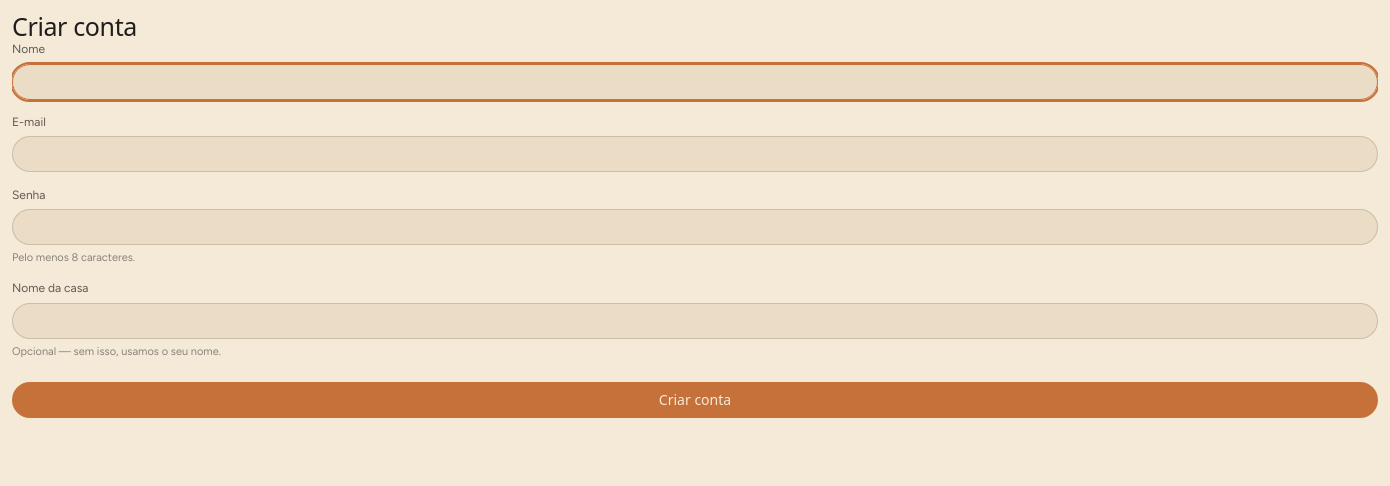
Test: cadastro › mostra o conflito de e-mail já cadastrado
Type "Ana" into the field labelled "Nome" at (695, 82), box [12,64,1378,100]
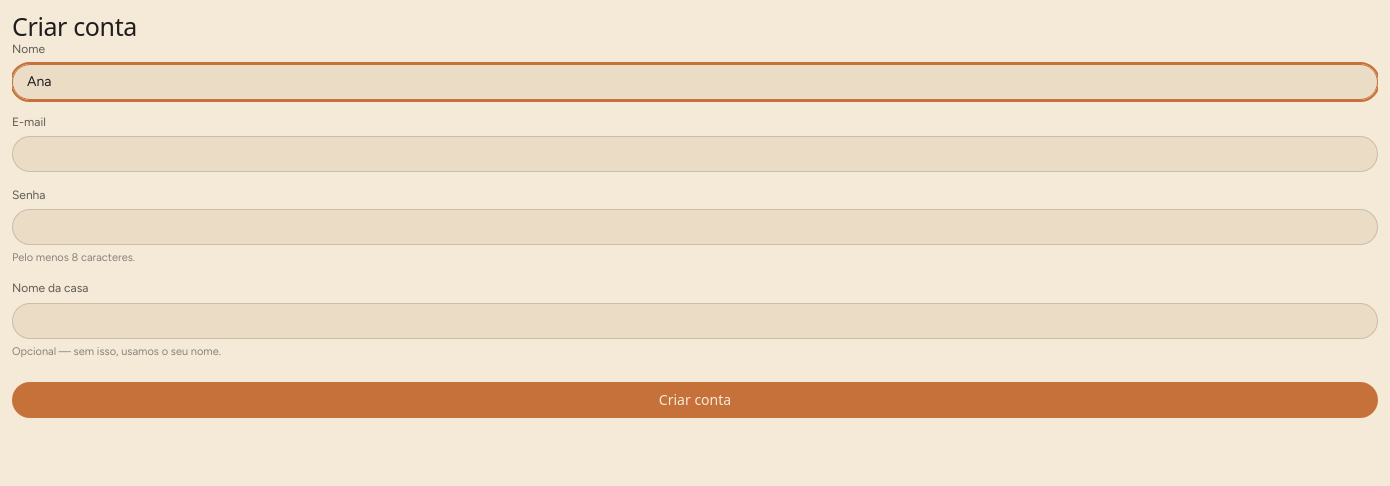
Type "ana@raiz.app" into the field labelled "E-mail" at (695, 154), box [12,136,1378,172]
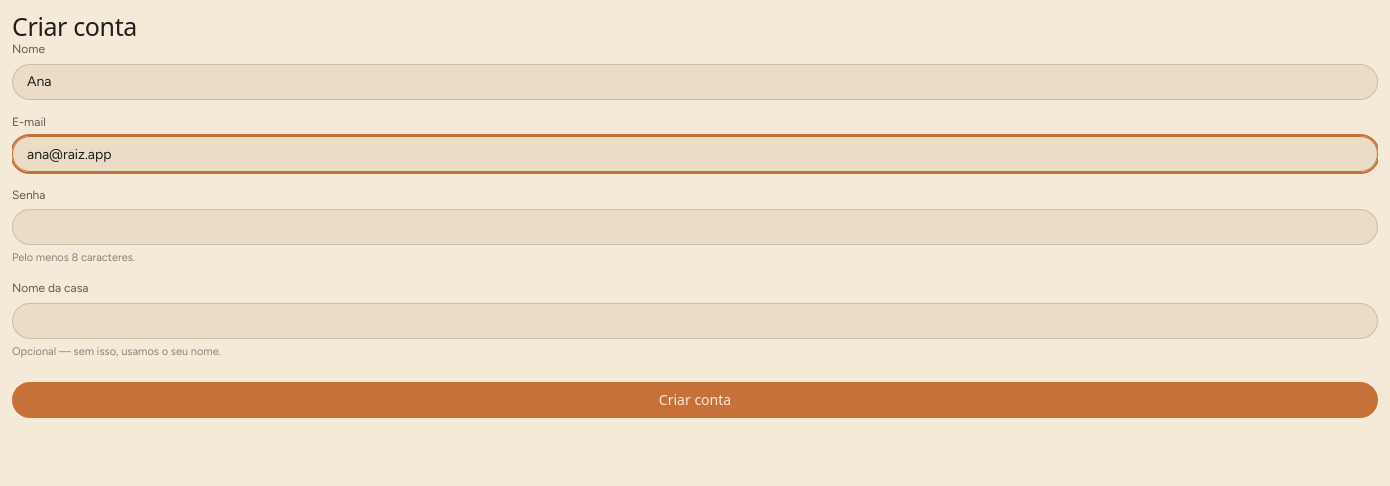
Type "raiz1234" into the password field labelled "Senha" at (695, 227), box [12,209,1378,245]
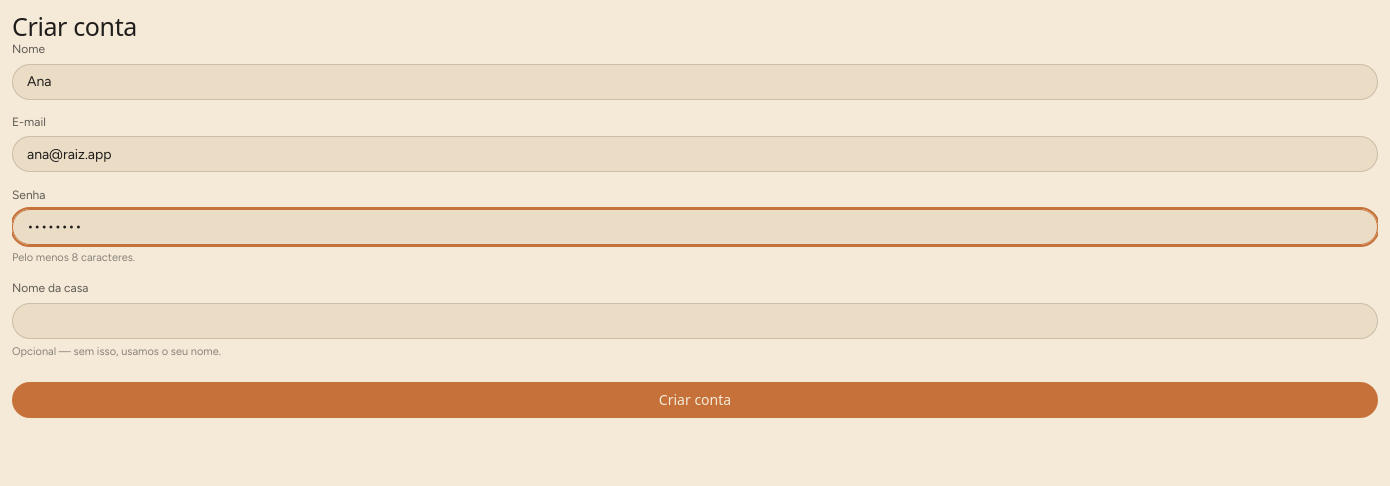
Click the button "Criar conta" at (695, 400), box [12,382,1378,418]
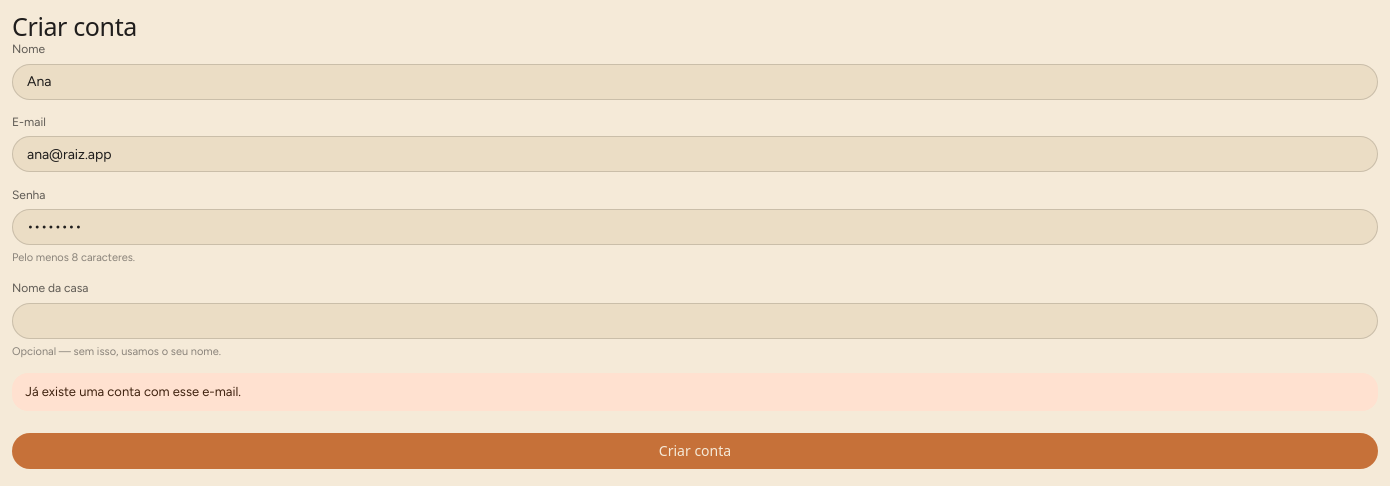
Expected: the message reads "Já existe uma conta com esse e-mail.", [25,384,241,399]
